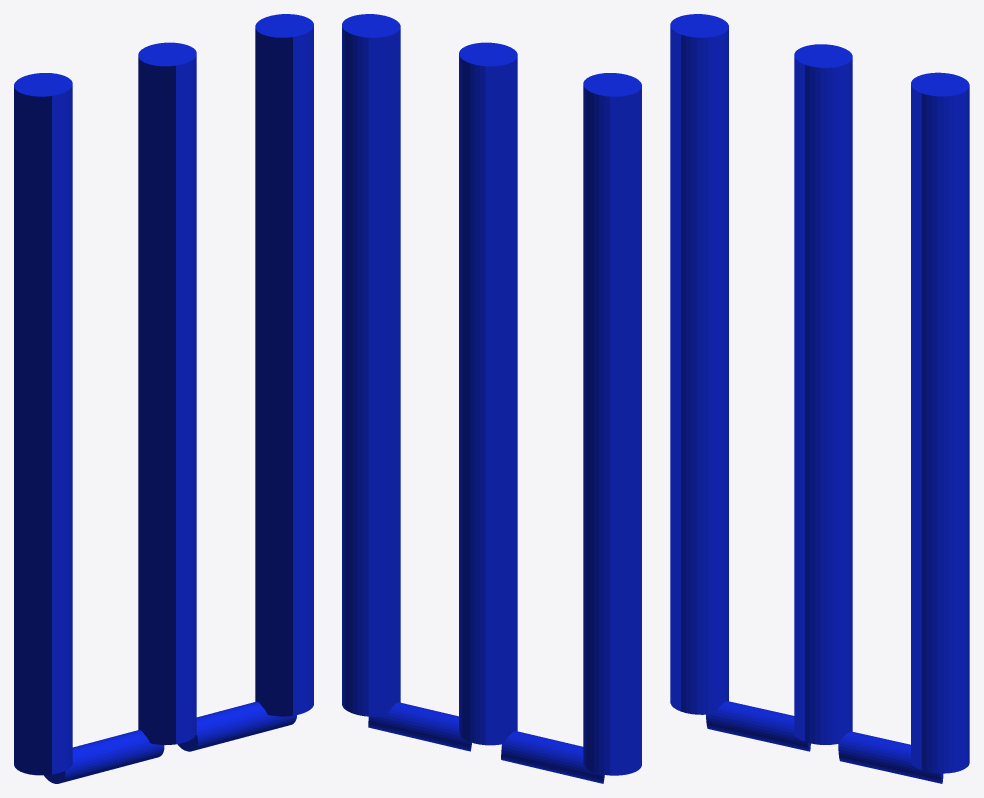
The model's file is wicket.gltf.
3 renders of one model, left to right at view 1: azimuth 30°, elevation 25°; view 2: azimuth 150°, elevation 25°; view 3: azimuth 330°, elevation 25°, orthographic.
Visible parts, largest first — view 1: Cylinder, Cylinder.002, Cylinder.001, Cylinder.003, Cylinder.004; view 2: Cylinder, Cylinder.001, Cylinder.002, Cylinder.003, Cylinder.004; view 3: Cylinder.002, Cylinder, Cylinder.001, Cylinder.003, Cylinder.004.
Part boxes in pixels (x1,y1,x2,y2): Cylinder: (14,73,72,775); Cylinder.002: (255,14,313,716); Cylinder.001: (138,42,196,745); Cylinder.003: (44,730,164,783); Cylinder.004: (177,701,296,751); Cylinder: (583,73,641,775); Cylinder.001: (459,42,517,745); Cylinder.002: (342,14,400,716); Cylinder.003: (501,731,604,783); Cylinder.004: (368,702,471,751); Cylinder.002: (911,72,969,773); Cylinder: (670,14,728,714); Cylinder.001: (794,44,852,744); Cylinder.003: (706,701,810,751); Cylinder.004: (838,731,943,783).
Bounding box in the file's own units: 1.8 × 4.12 × 0.2939.
